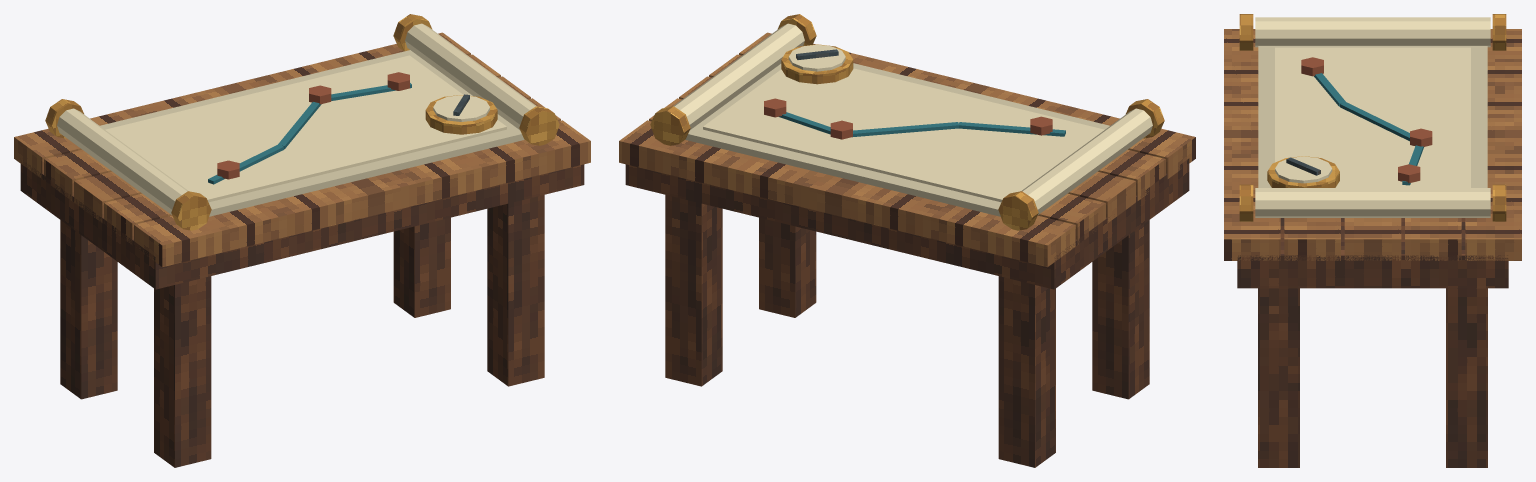
3 views of the same model, side by side, from view 1: azimuth 30°, elevation 25°; view 2: azimuth 150°, elevation 25°; view 3: azimuth 270°, elevation 25° (orthographic).
Visible parts, largest first — view 1: body_wood_dark, body_cream, body_oak_light, body_oak, body_linen, body_brass, body_cloth_teal, body_rust; view 2: body_wood_dark, body_cream, body_oak, body_linen, body_oak_light, body_brass, body_cloth_teal, body_rust; view 3: body_cream, body_wood_dark, body_oak, body_oak_light, body_linen, body_brass, body_cloth_teal, body_rust.
Boxes of the visible parts, x1,y1,x2,y2 form: body_wood_dark: (20,160,584,467); body_cream: (57,23,536,214); body_oak_light: (44,54,590,267); body_oak: (14,32,560,244); body_linen: (100,50,524,216); body_brass: (45,14,559,230); body_cloth_teal: (208,83,411,184); body_rust: (217,72,409,179); body_wood_dark: (625,158,1189,467); body_cream: (673,23,1152,214); body_oak: (619,54,1165,267); body_linen: (685,63,1109,216); body_oak_light: (649,32,1195,244); body_brass: (650,14,1164,230); body_cloth_teal: (778,112,1065,137); body_rust: (764,98,1052,139); body_cream: (1255,17,1490,217); body_wood_dark: (1237,218,1508,467); body_oak: (1284,29,1521,260); body_oak_light: (1224,29,1461,260); body_linen: (1258,46,1487,187); body_brass: (1239,14,1506,221); body_cloth_teal: (1314,73,1423,185); body_rust: (1301,57,1432,183).
Bounding box in the file's own units: 1.65 × 1.01 × 0.988.
9 materials, 5 textured.
